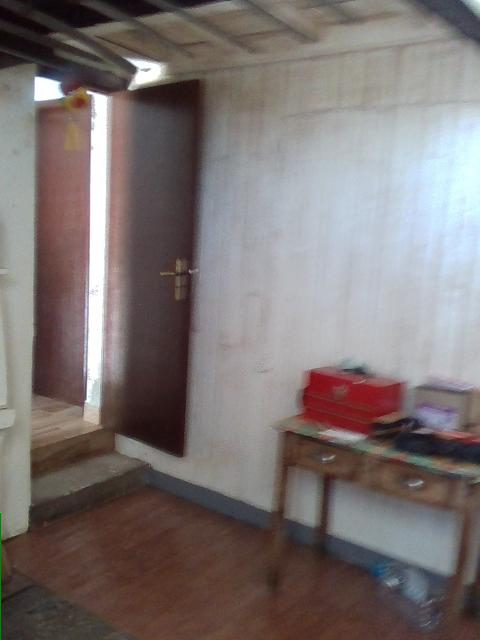door: (99, 78, 197, 458)
